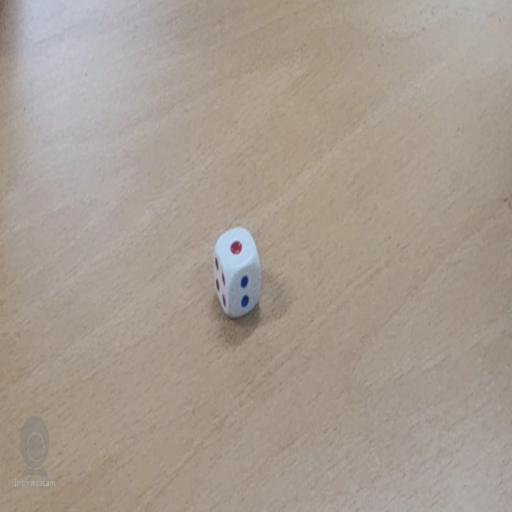dice_1: (212, 225, 264, 322)
